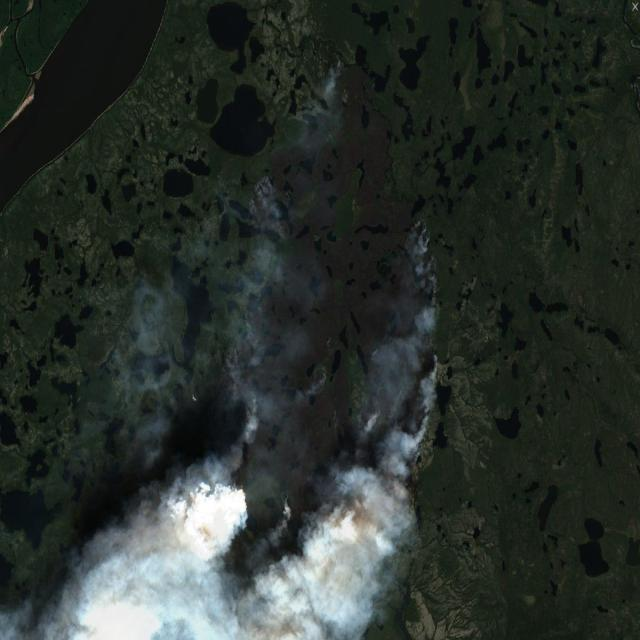fire: (191, 47, 455, 572)
